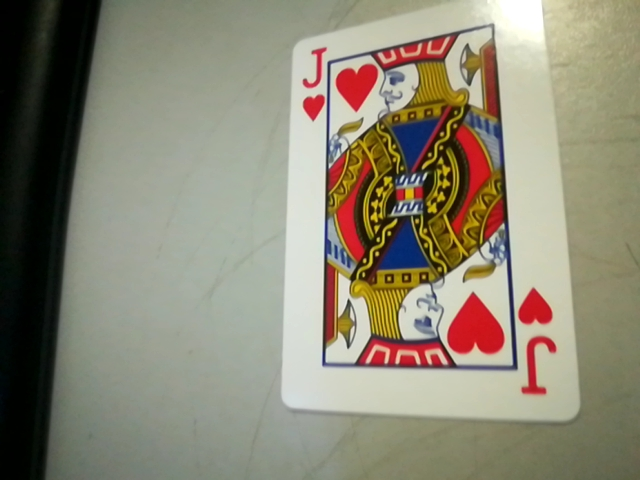hx j: (509, 283, 571, 405)
